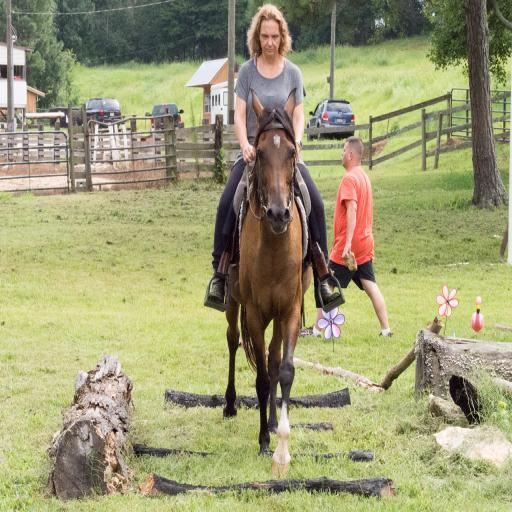horse: (222, 86, 314, 476)
